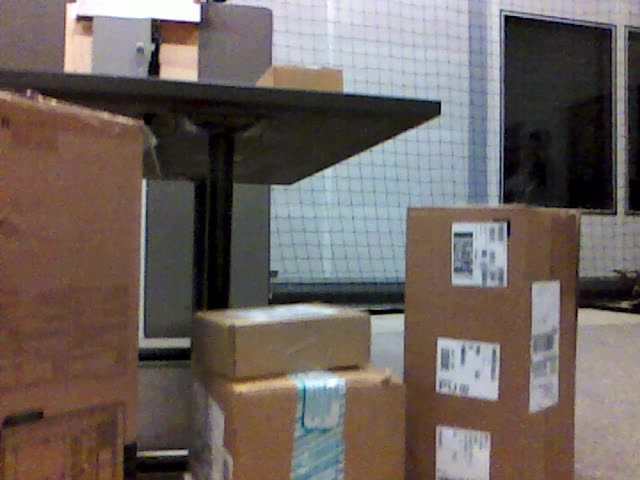box: (1, 92, 140, 480), (407, 207, 574, 474), (193, 354, 409, 480), (194, 303, 372, 378), (256, 67, 344, 91)
